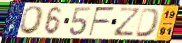5: (68, 6, 93, 37)
6: (43, 6, 63, 36)
D: (134, 7, 162, 38)
F: (87, 6, 116, 38)
O: (17, 6, 46, 36)
Z: (112, 7, 143, 38)
